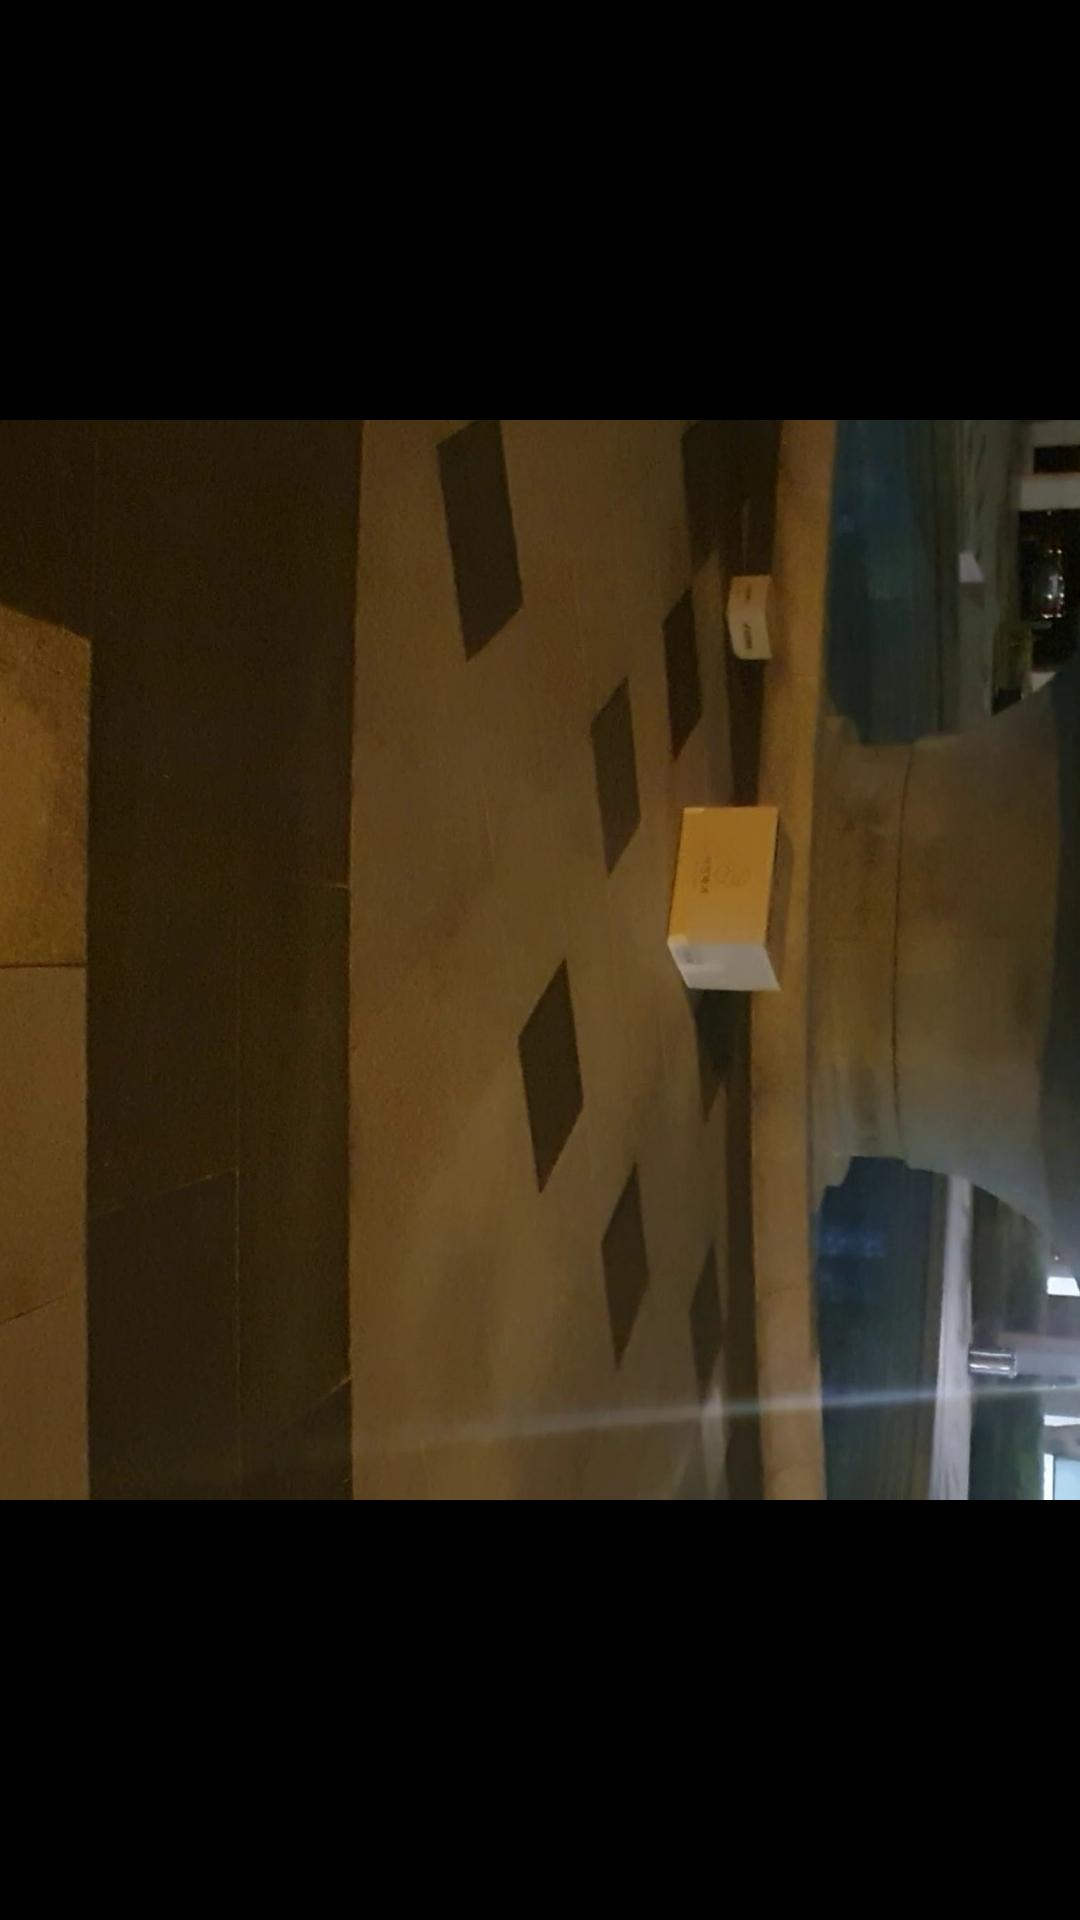Box: (655, 798, 804, 1002), (712, 563, 782, 670)
